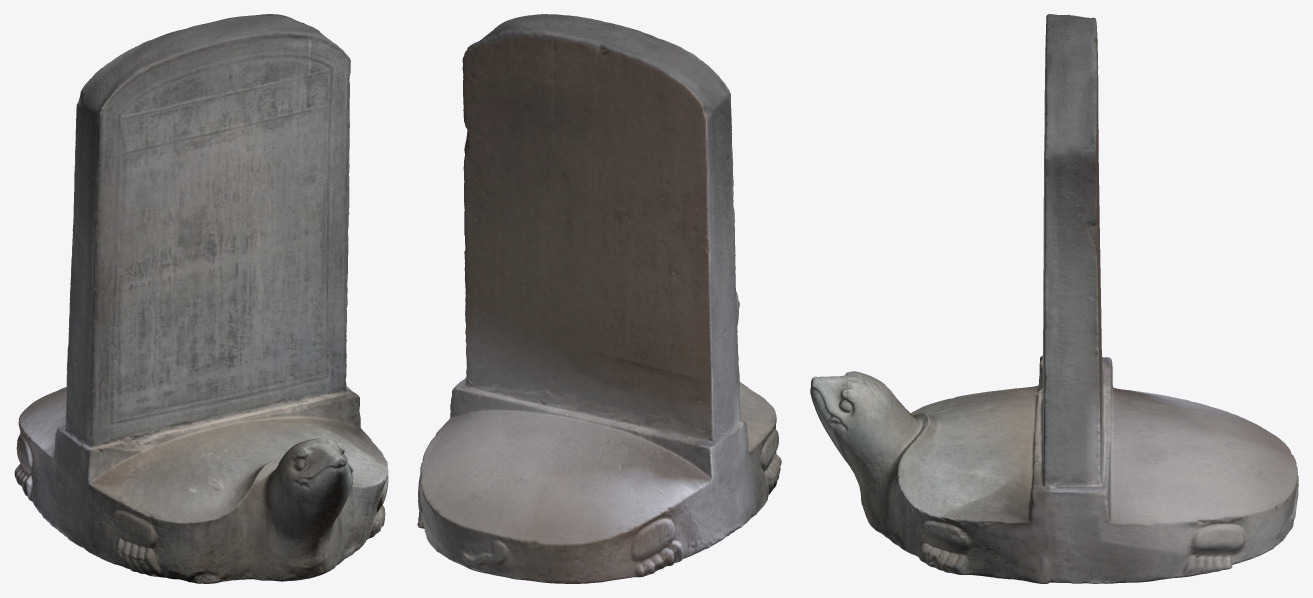
File: bia-1463.glb
The picture shows the model from 3 angles, left to right: view 1: azimuth 30°, elevation 25°; view 2: azimuth 150°, elevation 25°; view 3: azimuth 270°, elevation 25°; orthographic projection. The views are drawn at different scales.
Visible parts, largest first — view 1: truoc; view 2: truoc; view 3: truoc.
Part boxes in pixels (x1,y1,x2,y2): truoc: (14, 14, 388, 583); truoc: (417, 14, 781, 583); truoc: (810, 14, 1298, 583).
Size of the model in its own units: 0.6131 by 1 by 0.926.
Materials: 1 (1 with a texture image).
